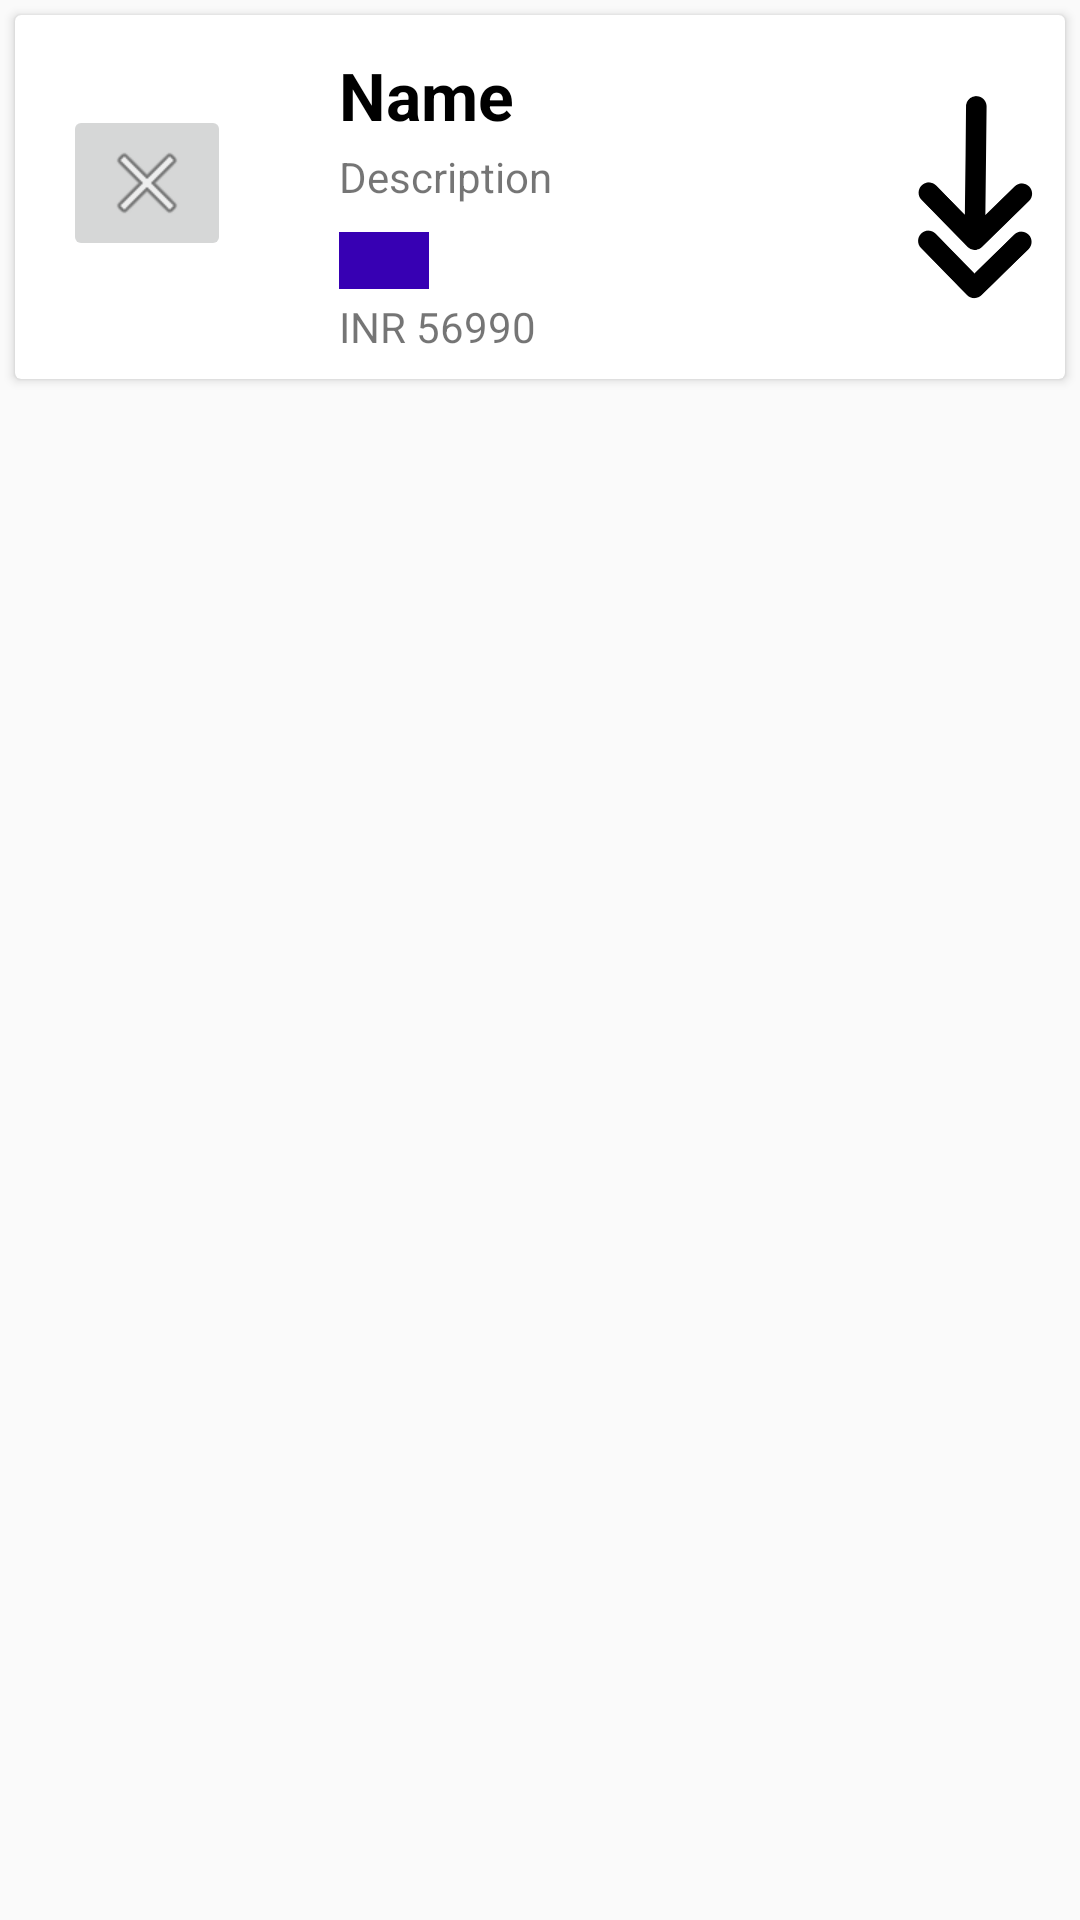

Screen size 1080w x 1920h. Icon name, then its box in pixels as bbox=[x1, y1, x2, y2]:
close clear cancel: bbox=[75, 123, 219, 243]
decrementicon: bbox=[918, 96, 1032, 298]
